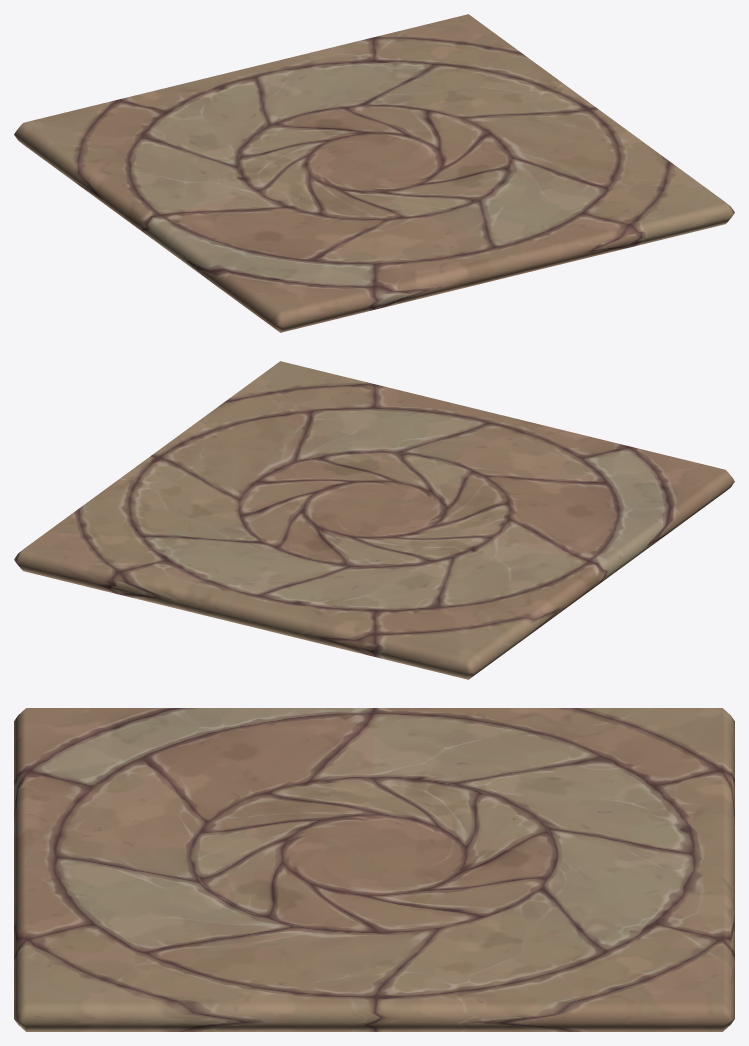
Rendered from slab_02.fbx.
3 views of the same model, one above another, from view 1: azimuth 30°, elevation 25°; view 2: azimuth 150°, elevation 25°; view 3: azimuth 270°, elevation 25° (orthographic). The views are drawn at different scales.
Parts seen in each view (by area): view 1: slab_01_lo; view 2: slab_01_lo; view 3: slab_01_lo.
Part boxes in pixels (bbox=[...]): slab_01_lo: bbox=[14, 14, 734, 332]; slab_01_lo: bbox=[14, 361, 734, 679]; slab_01_lo: bbox=[14, 708, 734, 1031].
Bounding box in the file's own units: 24.27 × 1.1 × 24.27.
1 material, 1 textured.
